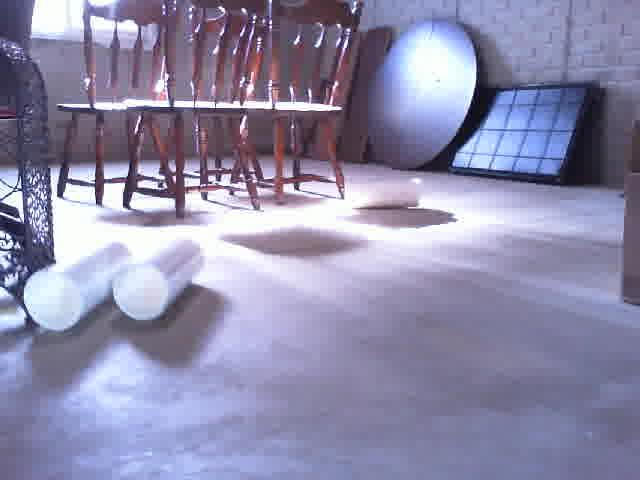coral: (23, 246, 129, 332), (116, 248, 201, 321), (346, 178, 424, 208)
